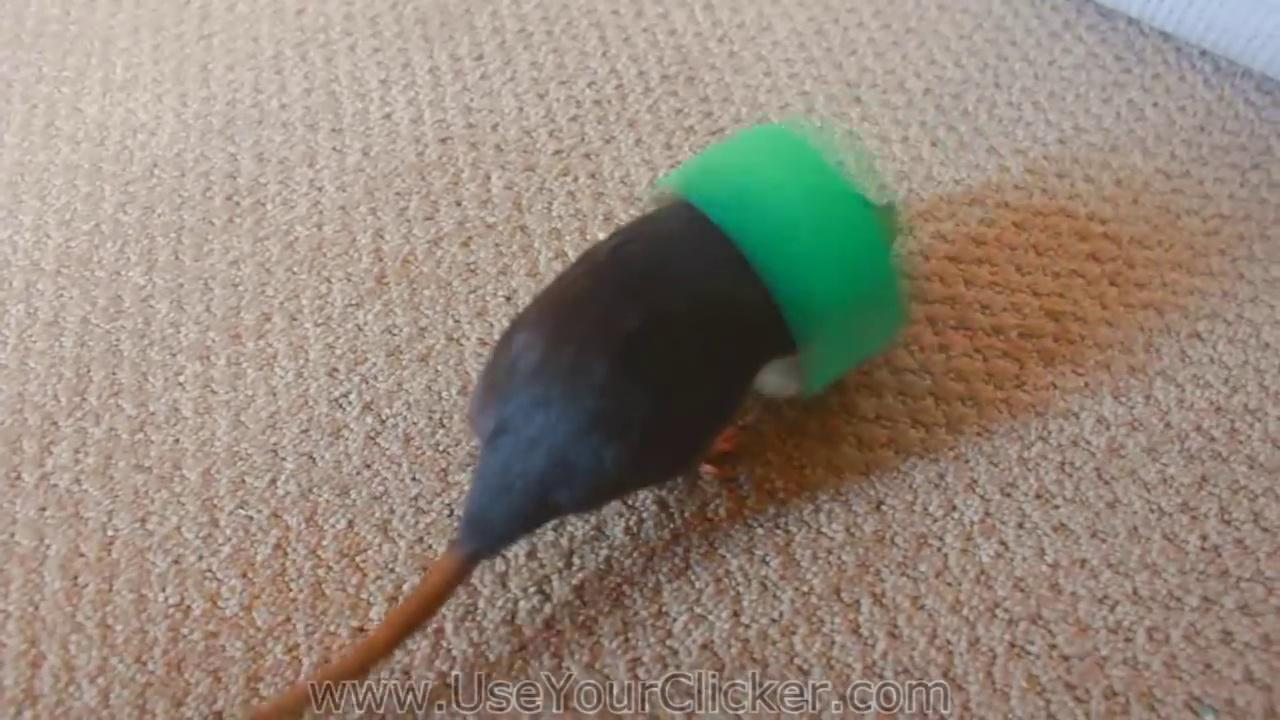rat: (239, 206, 796, 720)
